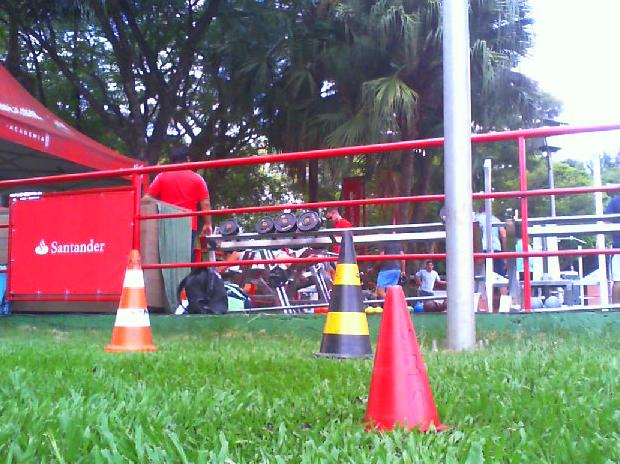0 cone: (361, 285, 450, 432), (312, 230, 374, 359), (104, 249, 156, 352)
